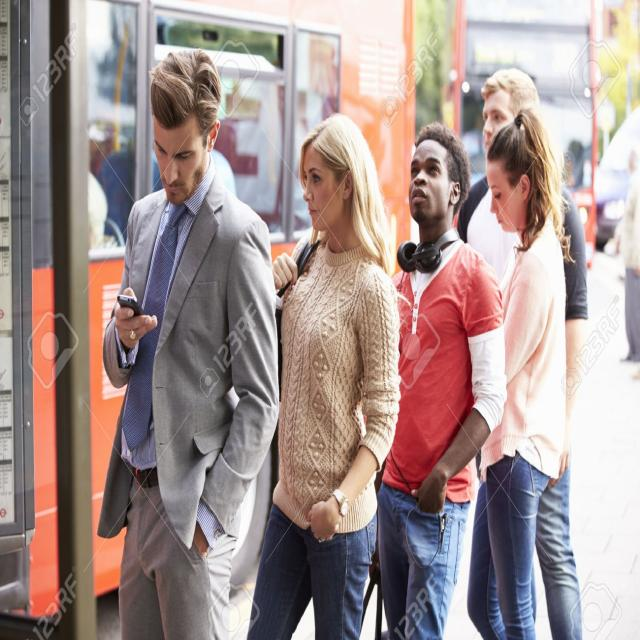body: (96, 42, 286, 639), (245, 109, 402, 640), (452, 65, 589, 639), (374, 120, 509, 640), (478, 110, 570, 640), (83, 78, 264, 249), (614, 148, 640, 363), (553, 140, 590, 188)
